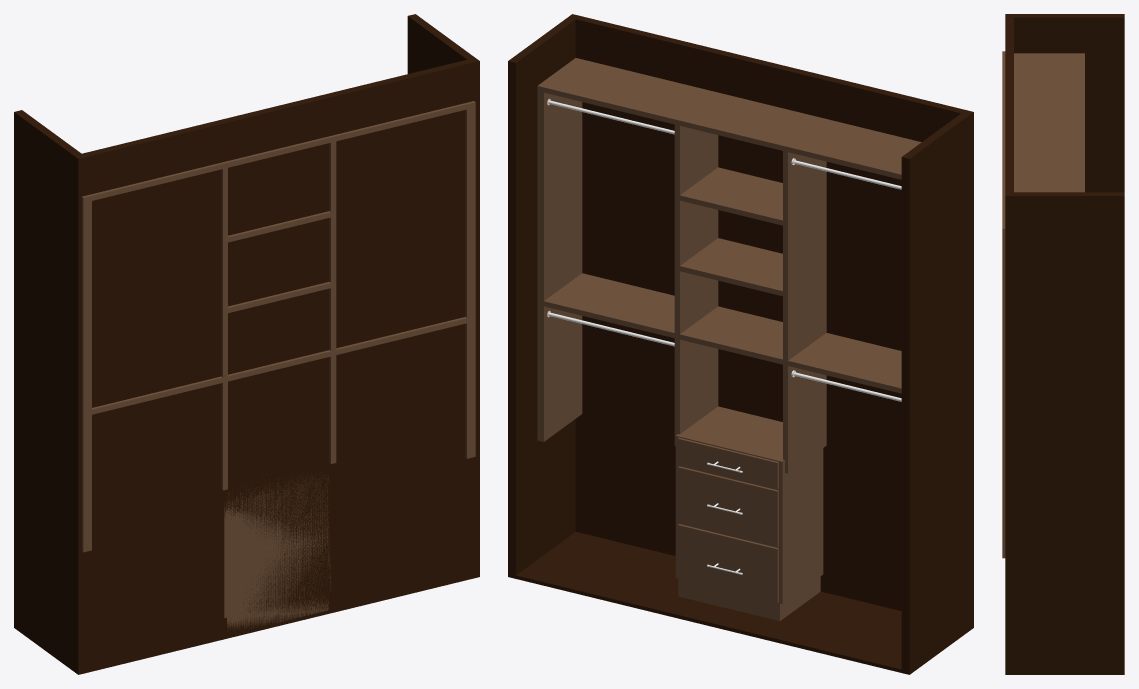
File: wardrobe.fbx
3 views of the same model, side by side, from view 1: azimuth 30°, elevation 25°; view 2: azimuth 150°, elevation 25°; view 3: azimuth 270°, elevation 25° (orthographic). The views are drawn at different scales.
Visible parts, largest first — view 1: Box001, Box003, Box002, Box004; view 2: Box001, Box003, Box002, Box004; view 3: Box001, Box003.
Boxes of the visible parts, x1,y1,x2,y2 form: Box001: (14, 14, 479, 674); Box003: (81, 101, 475, 552); Box002: (224, 468, 330, 629); Box004: (92, 317, 466, 414); Box001: (508, 14, 973, 674); Box003: (537, 58, 921, 473); Box002: (675, 406, 823, 621); Box004: (537, 273, 901, 393); Box001: (1005, 14, 1124, 674); Box003: (1002, 51, 1084, 558).
Bounding box in the file's own units: 327 × 401 × 92.94.
